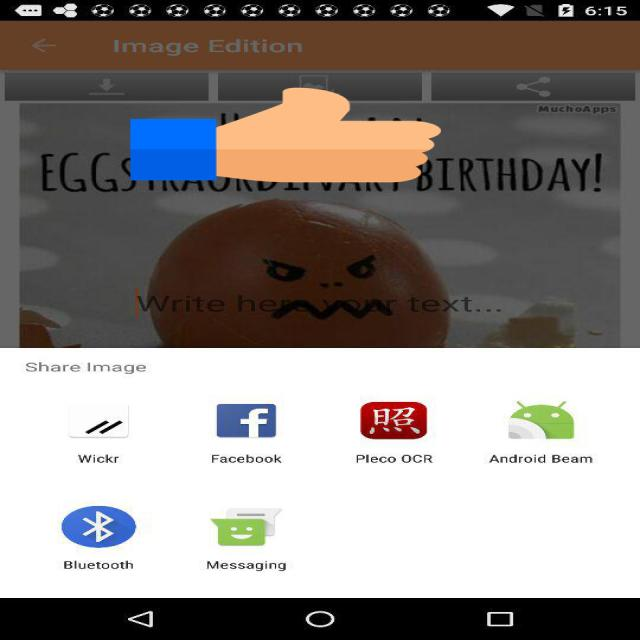privacy zuckering: (130, 85, 441, 185)
